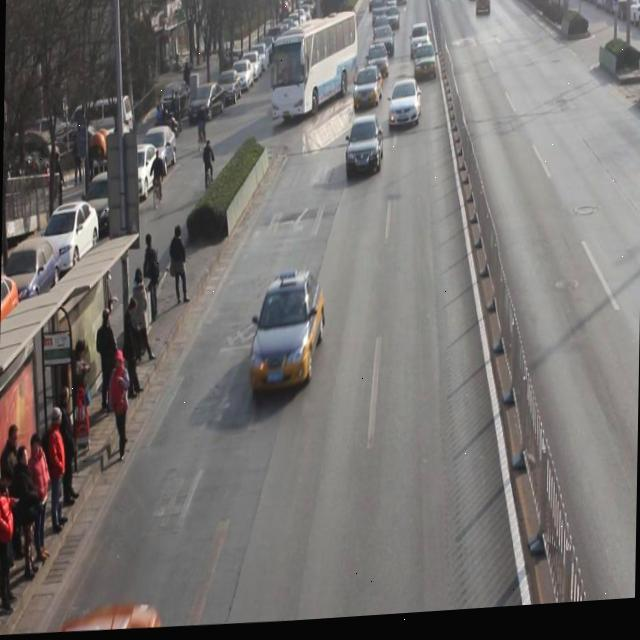car: (249, 272, 326, 394), (345, 120, 384, 182), (388, 83, 422, 136), (353, 70, 384, 116), (412, 47, 438, 86), (366, 47, 388, 85), (373, 30, 395, 64), (410, 27, 430, 64)
van: (268, 15, 359, 125)
